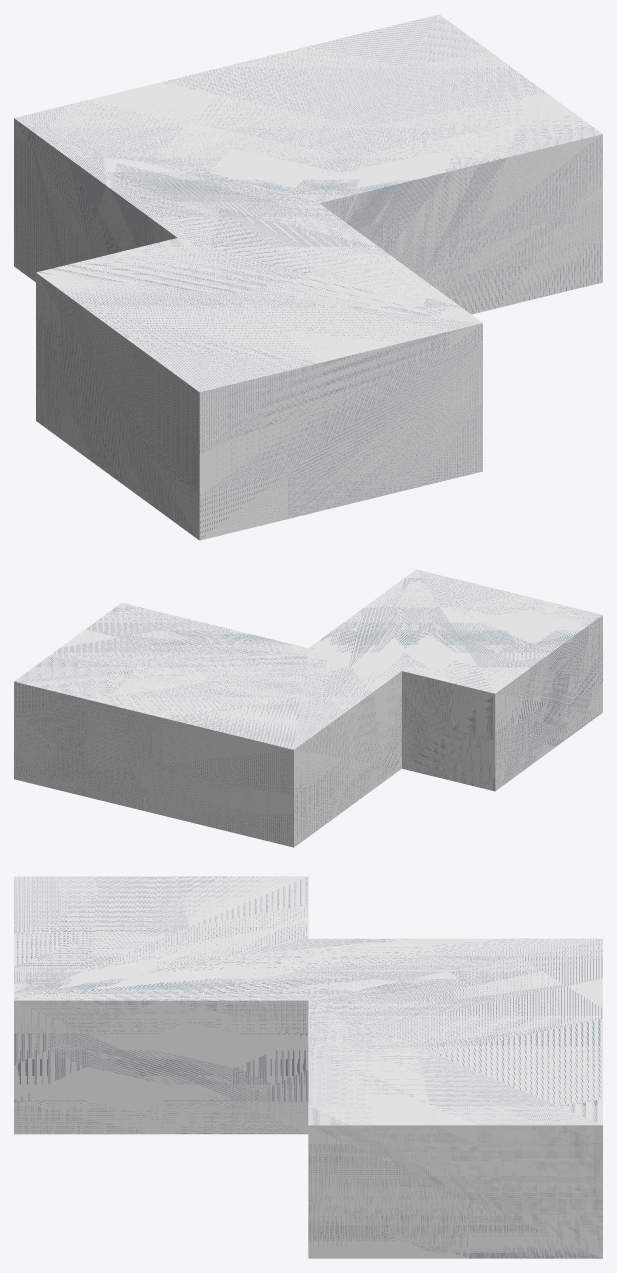
Rendered from keyFrag2.fbx.
The picture shows the model from 3 angles, top to bottom: view 1: azimuth 30°, elevation 25°; view 2: azimuth 150°, elevation 25°; view 3: azimuth 270°, elevation 25°; orthographic projection. The views are drawn at different scales.
Parts seen in each view (by area): view 1: Model; view 2: Model; view 3: Model.
Boxes of the visible parts, x1,y1,x2,y2 form: Model: (14,14,602,540); Model: (14,569,602,847); Model: (14,876,602,1258).
Size of the model in its own units: 100 by 25 by 100.
